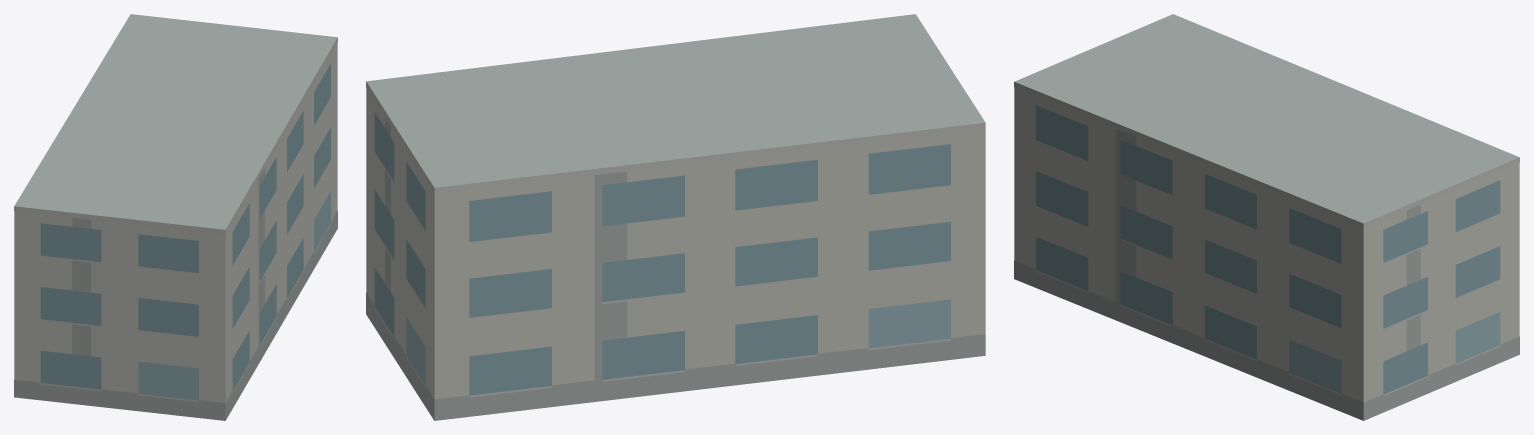
Rendered from survey-upis-32846262.glb.
3 views of the same model, side by side, from view 1: azimuth 30°, elevation 25°; view 2: azimuth 150°, elevation 25°; view 3: azimuth 270°, elevation 25° (orthographic). The views are drawn at different scales.
Visible parts, largest first — view 1: survey-upis-32846262.tmp; view 2: survey-upis-32846262.tmp; view 3: survey-upis-32846262.tmp.
Part boxes in pixels (x1=…): survey-upis-32846262.tmp: x1=14, y1=14, x2=337, y2=420; survey-upis-32846262.tmp: x1=366, y1=14, x2=985, y2=420; survey-upis-32846262.tmp: x1=1014, y1=14, x2=1519, y2=420.
Size of the model in its own units: 20.84 by 9.15 by 21.25.
